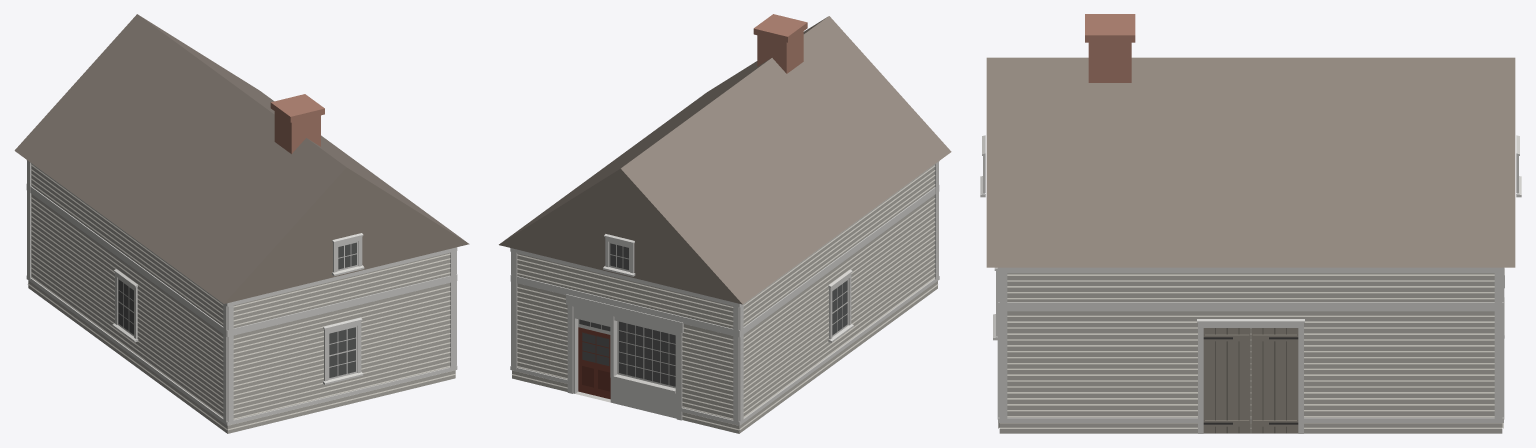
File: recon_1835_core_c2_033__inferred_1835.glb
The picture shows the model from 3 angles, left to right: view 1: azimuth 30°, elevation 25°; view 2: azimuth 150°, elevation 25°; view 3: azimuth 270°, elevation 25°; orthographic projection. The views are drawn at different scales.
Visible parts, largest first — view 1: recon_1835_core_c2_033__inferred_1835; view 2: recon_1835_core_c2_033__inferred_1835; view 3: recon_1835_core_c2_033__inferred_1835.
Part boxes in pixels (box(x1,y1,x2,y2)): recon_1835_core_c2_033__inferred_1835: box(14, 14, 469, 433); recon_1835_core_c2_033__inferred_1835: box(499, 14, 951, 433); recon_1835_core_c2_033__inferred_1835: box(980, 14, 1521, 433).
Bounding box in the file's own units: 6.98 × 7.3 × 10.57.
